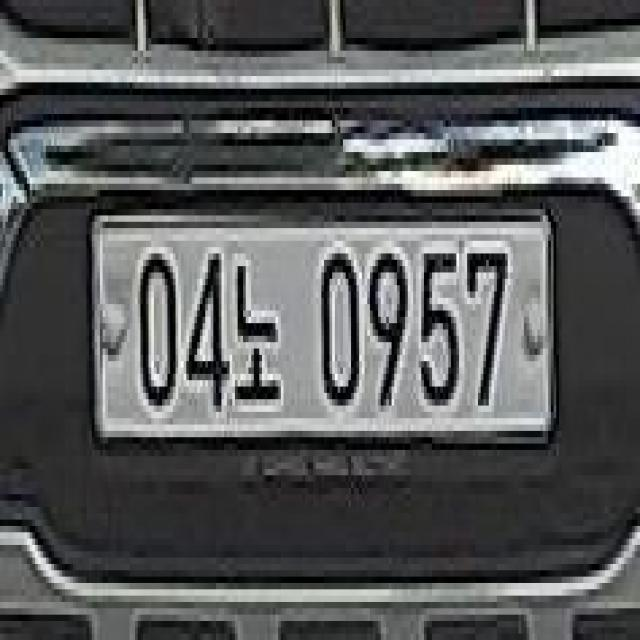illegal_plate: (90, 190, 558, 477)
